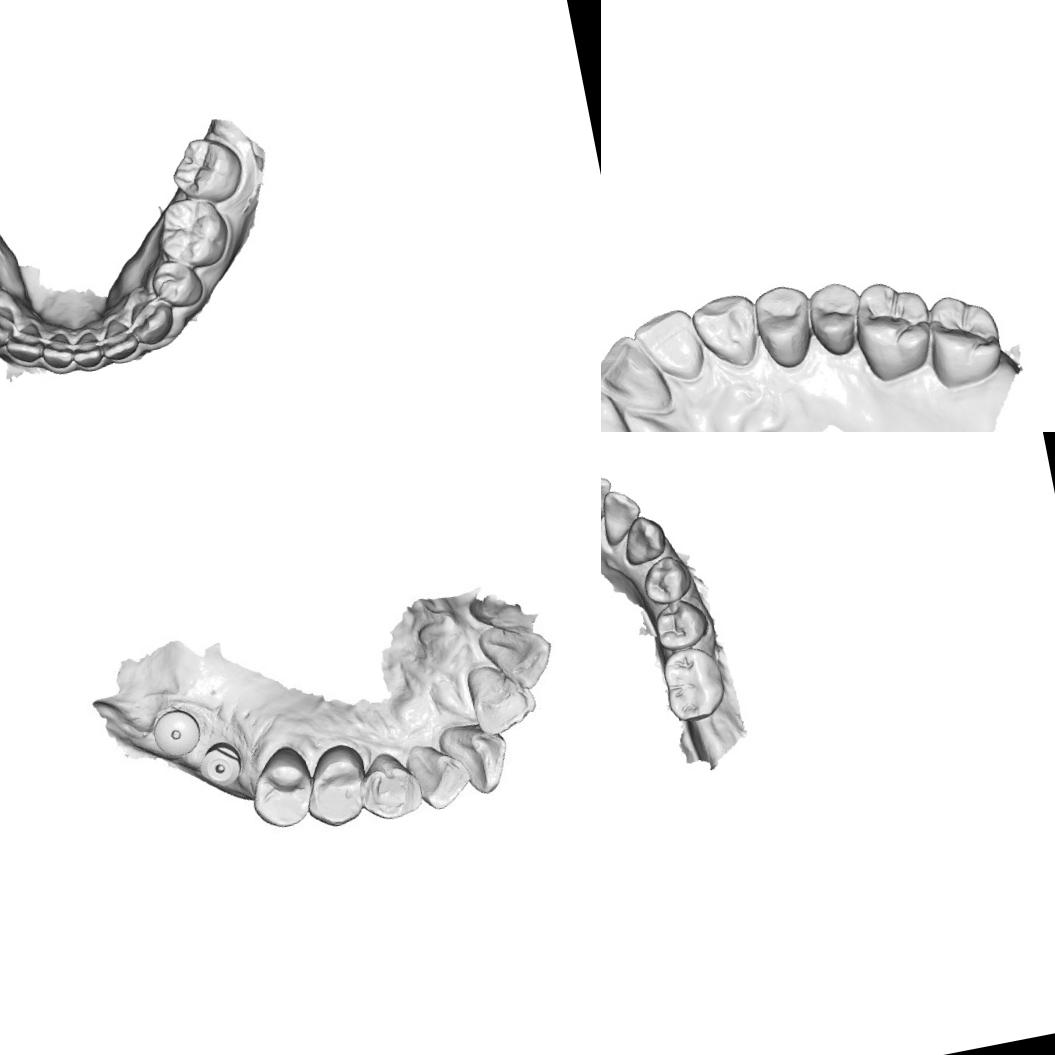canine: (688, 288, 764, 374), (617, 510, 670, 566), (126, 294, 176, 346), (0, 298, 20, 353)
implant: (144, 698, 208, 764), (194, 733, 246, 788)
incisor: (601, 327, 676, 427), (630, 304, 708, 388), (479, 615, 553, 687), (440, 720, 512, 792), (466, 662, 535, 730), (408, 744, 468, 809), (601, 482, 646, 545), (95, 312, 142, 364), (0, 317, 47, 368), (66, 324, 105, 372), (36, 328, 76, 372), (601, 469, 620, 533)
molar: (844, 273, 940, 386), (919, 285, 1010, 389), (151, 190, 235, 275), (162, 130, 249, 210), (655, 640, 732, 726)
premolar: (241, 739, 318, 832), (751, 280, 817, 372), (302, 748, 373, 826), (803, 278, 866, 359), (358, 758, 422, 822), (647, 592, 712, 654), (145, 254, 208, 314), (637, 550, 698, 607)
